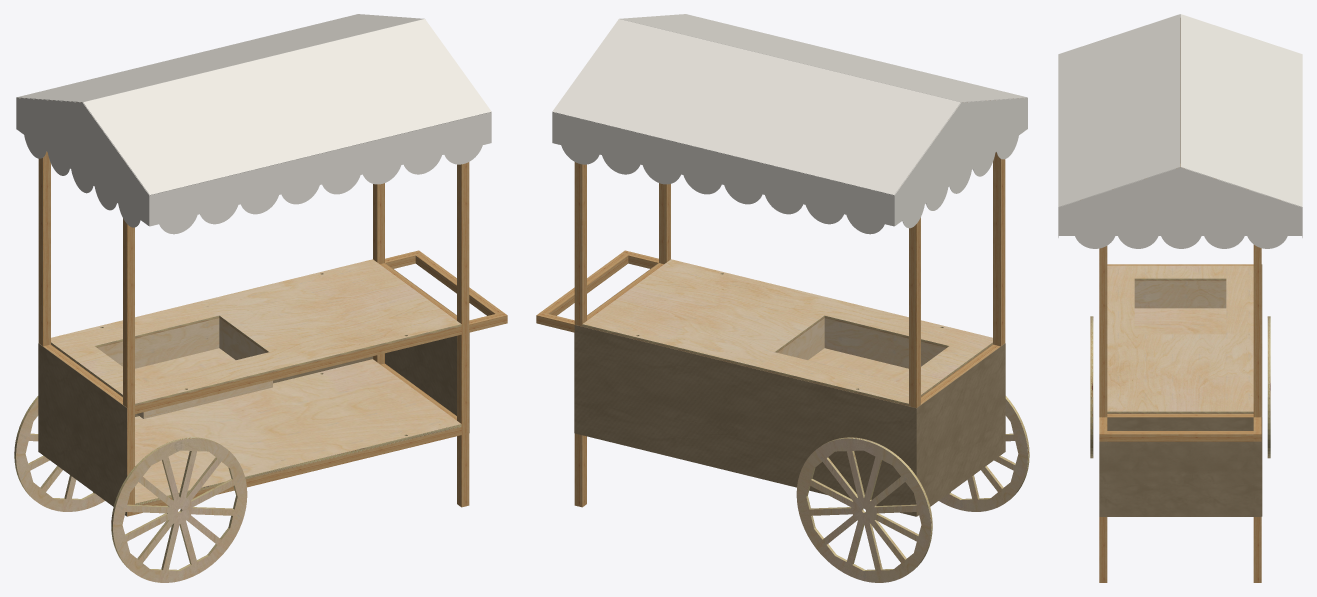
3 renders of one model, left to right at view 1: azimuth 30°, elevation 25°; view 2: azimuth 150°, elevation 25°; view 3: azimuth 270°, elevation 25°, orthographic. The views are drawn at different scales.
Visible parts, largest first — view 1: Плоскость.009, STOL.007, STOL.008, Цилиндр.012, KOLESO.011, Плоскость.012, Цилиндр.015, Плоскость.005, Куб.170, Плоскость.011, Куб.172, Куб.152 (+9 smaller); view 2: Плоскость.005, Плоскость.010, STOL.007, Цилиндр.014, KOLESO.013, Плоскость.012, Цилиндр.015, Плоскость.009, Куб.154, Куб.176, KOLESO.011, Куб.171 (+5 smaller); view 3: Плоскость.005, Плоскость.009, STOL.007, Плоскость.011, Цилиндр.013, Куб.174, Куб.175, Куб.154, Куб.170, Куб.157, Куб.156, KOLESO.011 (+2 smaller).
Boxes of the visible parts, box(x1,y1,x2,y2) form: Плоскость.009: box(83, 19, 491, 195); STOL.007: box(51, 259, 461, 405); STOL.008: box(135, 359, 461, 504); Цилиндр.012: box(149, 112, 491, 234); KOLESO.011: box(111, 437, 247, 582); Плоскость.012: box(38, 343, 127, 516); Цилиндр.015: box(16, 98, 149, 227); Плоскость.005: box(16, 14, 424, 102); Куб.170: box(457, 162, 469, 507); Плоскость.011: box(385, 263, 469, 432); Куб.172: box(97, 318, 219, 368); Куб.152: box(135, 326, 461, 414); Плоскость.005: box(552, 19, 960, 195); Плоскость.010: box(574, 325, 916, 516); STOL.007: box(582, 259, 992, 405); Цилиндр.014: box(552, 112, 894, 234); KOLESO.013: box(796, 437, 932, 582); Плоскость.012: box(916, 343, 1005, 516); Цилиндр.015: box(894, 98, 1027, 228); Плоскость.009: box(619, 14, 1027, 102); Куб.154: box(574, 162, 586, 507); Куб.176: box(824, 318, 946, 368); KOLESO.011: box(939, 396, 1029, 511); Куб.171: box(993, 152, 1005, 346); Плоскость.005: box(1180, 14, 1302, 207); Плоскость.009: box(1058, 14, 1180, 207); STOL.007: box(1107, 265, 1253, 413); Плоскость.011: box(1099, 417, 1261, 516); Цилиндр.013: box(1058, 167, 1302, 248); Куб.174: box(1134, 280, 1226, 308); Куб.175: box(1134, 308, 1226, 334); Куб.154: box(1253, 245, 1261, 582); Куб.170: box(1099, 246, 1107, 582); Куб.157: box(1107, 431, 1253, 441); Куб.156: box(1107, 414, 1253, 417); KOLESO.011: box(1090, 316, 1093, 458).
Bounding box in the file's own units: 2.08 × 2.26 × 1.2.
Materials: 10 (9 with a texture image).
